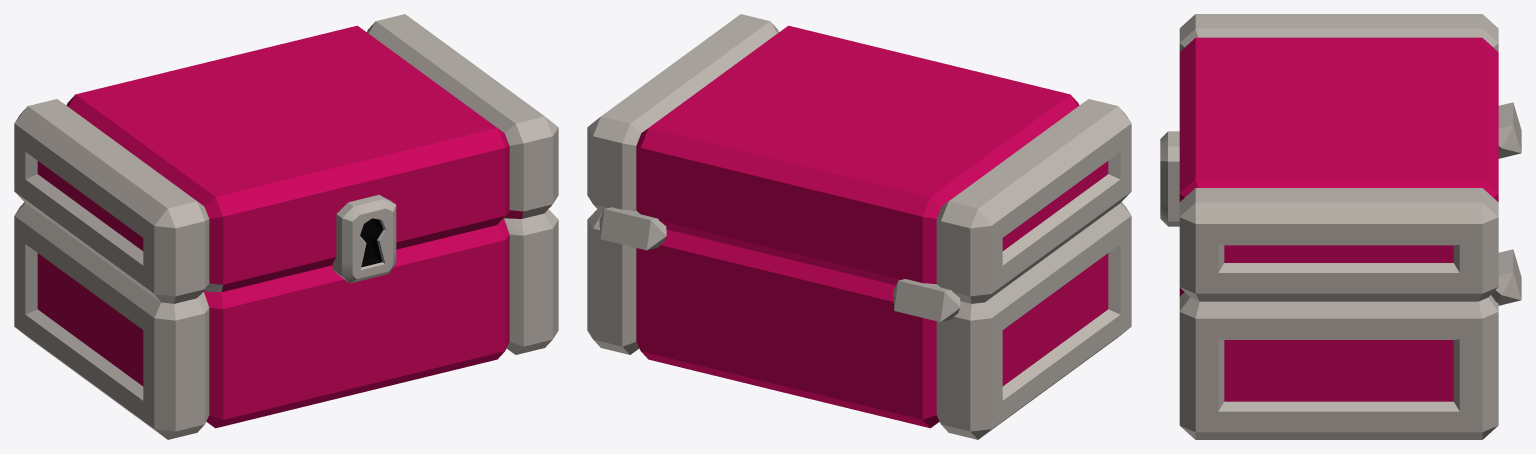
File: m_dec_dung_chestLargeB_closed.fbx
The picture shows the model from 3 angles, left to right: view 1: azimuth 30°, elevation 25°; view 2: azimuth 150°, elevation 25°; view 3: azimuth 270°, elevation 25°; orthographic projection. The views are drawn at different scales.
Parts seen in each view (by area): view 1: m_dec_dung_chestLargeB_closed; view 2: m_dec_dung_chestLargeB_closed; view 3: m_dec_dung_chestLargeB_closed.
Boxes of the visible parts, x1,y1,x2,y2 form: m_dec_dung_chestLargeB_closed: (14,14,558,439); m_dec_dung_chestLargeB_closed: (587,14,1131,439); m_dec_dung_chestLargeB_closed: (1160,14,1521,439).
Size of the model in its own units: 3 by 1.64 by 2.26.
